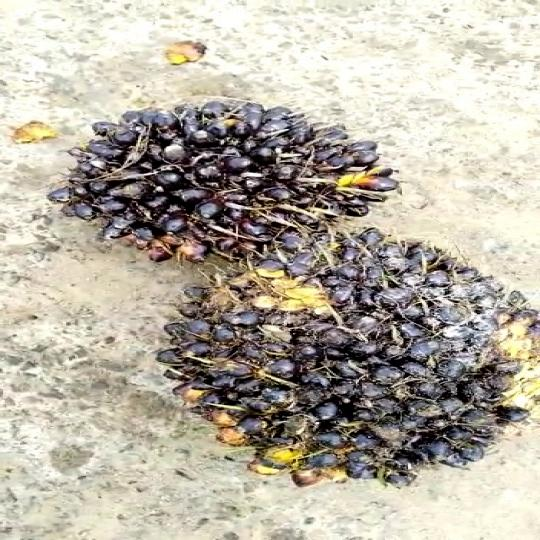mentah: (86, 234, 540, 510), (44, 94, 439, 276)
